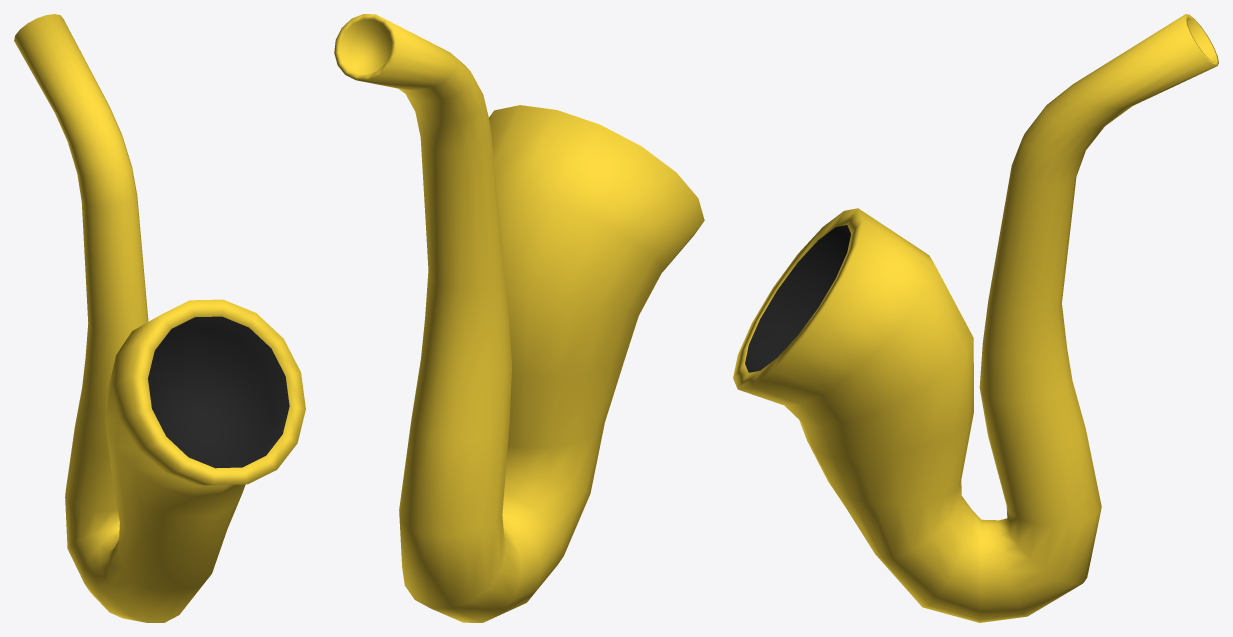
File: Saxophone.fbx
3 renders of one model, left to right at view 1: azimuth 30°, elevation 25°; view 2: azimuth 150°, elevation 25°; view 3: azimuth 270°, elevation 25°, orthographic. The views are drawn at different scales.
Parts seen in each view (by area): view 1: Saxophone; view 2: Saxophone; view 3: Saxophone.
Part boxes in pixels (left/top/right/bottom): Saxophone: left=14, top=14, right=305, bottom=622; Saxophone: left=334, top=14, right=704, bottom=622; Saxophone: left=733, top=14, right=1218, bottom=622.
Bounding box in the file's own units: 20.48 × 63.73 × 46.71.
